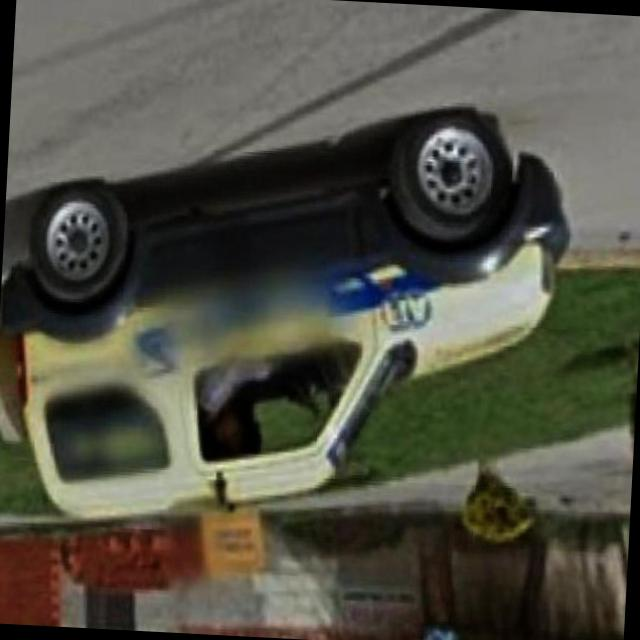car: (0, 76, 575, 574)
